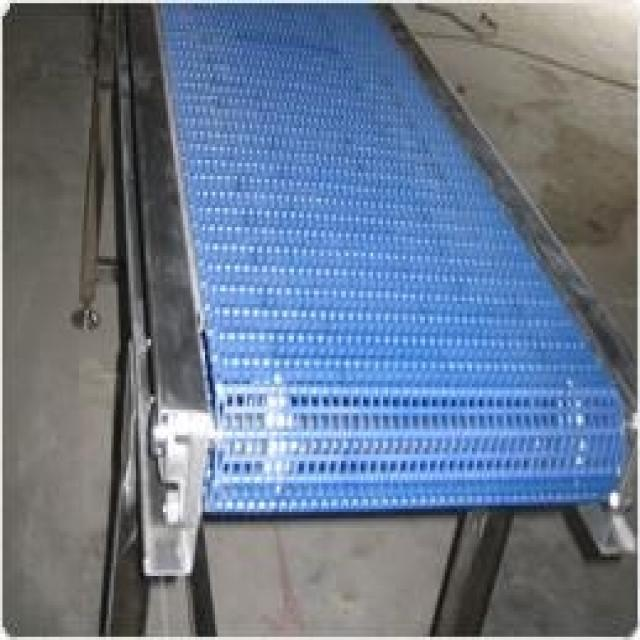Convoyeur: (106, 0, 640, 561)
